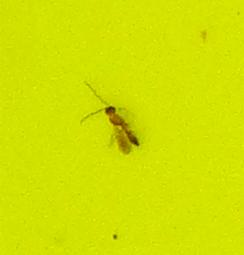Hymenoptera: (100, 100, 144, 155)
